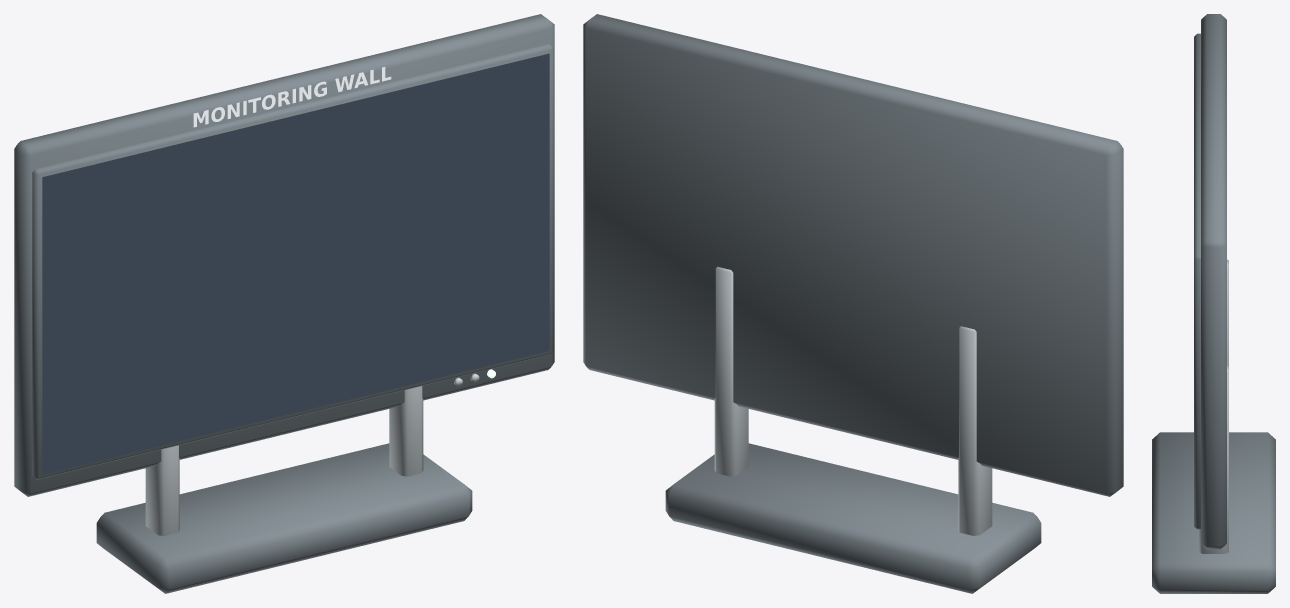
Rendered from monitoring_wall_standard.glb.
3 renders of one model, left to right at view 1: azimuth 30°, elevation 25°; view 2: azimuth 150°, elevation 25°; view 3: azimuth 270°, elevation 25°, orthographic. The views are drawn at different scales.
Visible parts, largest first — view 1: LiveViewSurface_glass, DisplayHousing_frame, Base_frame, LiveViewSurfaceFrame_frame, Support_steel, TypeLabel_white; view 2: DisplayHousing_frame, Base_frame, Support_steel; view 3: Base_frame, DisplayHousing_frame, LiveViewSurfaceFrame_frame, Support_steel.
Part boxes in pixels (x1,y1,x2,y2): LiveViewSurface_glass: (42,53,549,474); DisplayHousing_frame: (14,14,554,496); Base_frame: (96,443,472,593); LiveViewSurfaceFrame_frame: (32,43,553,479); Support_steel: (145,386,423,535); TypeLabel_white: (193,67,391,127); DisplayHousing_frame: (583,14,1123,496); Base_frame: (665,443,1041,593); Support_steel: (714,266,992,535); Base_frame: (1152,432,1275,593); DisplayHousing_frame: (1201,14,1226,549); LiveViewSurfaceFrame_frame: (1194,33,1200,529); Support_steel: (1199,259,1228,553).
Size of the model in its own units: 2.73 by 2.23 by 0.62.
